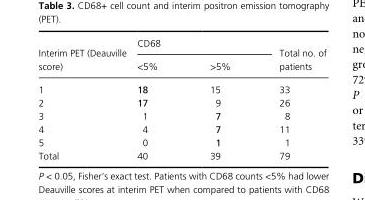table: (37, 37, 325, 160)
table column: (37, 37, 131, 160), (183, 37, 254, 160), (254, 37, 325, 160), (131, 37, 183, 160)
table column header: (37, 37, 325, 77)
table row: (37, 54, 325, 77), (37, 77, 325, 95), (37, 37, 325, 54), (37, 108, 325, 122), (37, 95, 325, 108), (37, 122, 325, 135), (37, 135, 325, 148), (37, 148, 325, 160)
table spanning cell: (37, 37, 131, 77), (254, 37, 325, 77), (131, 37, 254, 54)
